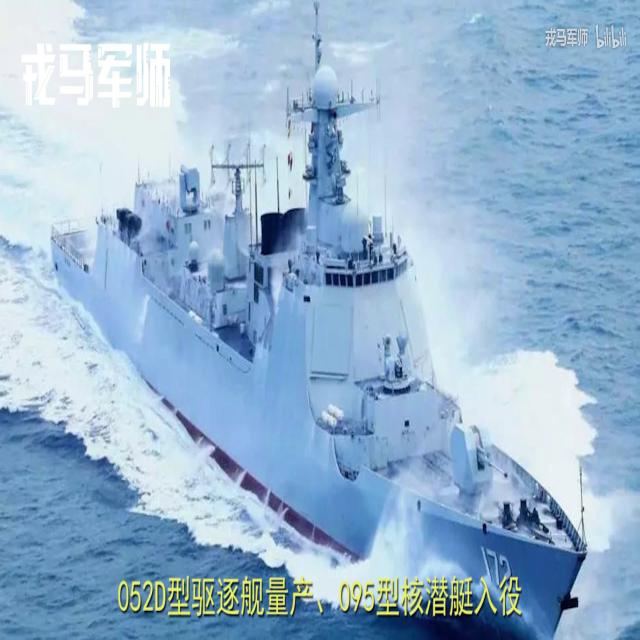navalvessels: (47, 61, 580, 640)
